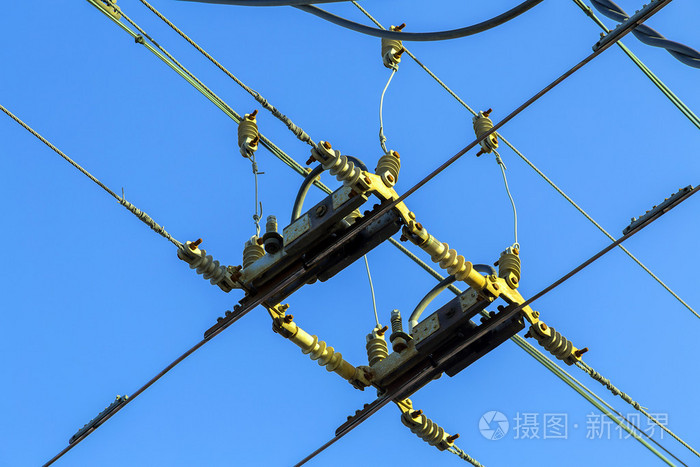insulator: (189, 245, 228, 286), (301, 333, 341, 371), (434, 241, 469, 279), (538, 323, 573, 361), (321, 154, 357, 189), (412, 412, 445, 446)
